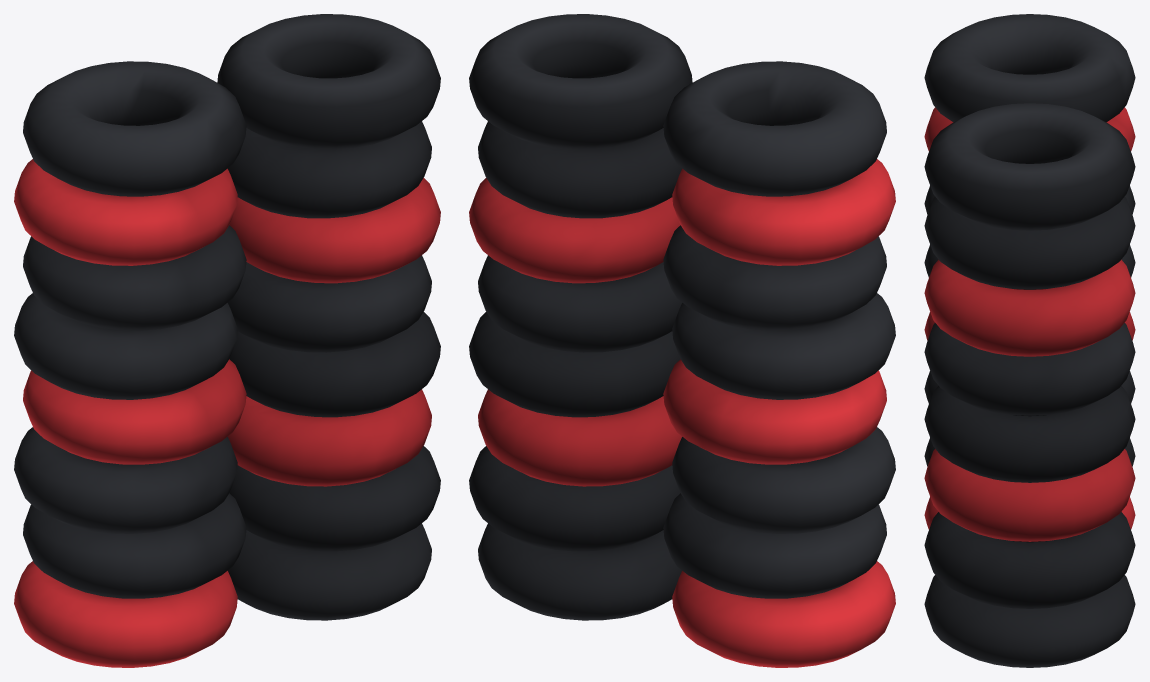
File: bl_tires.glb
3 views of the same model, side by side, from view 1: azimuth 30°, elevation 25°; view 2: azimuth 150°, elevation 25°; view 3: azimuth 270°, elevation 25° (orthographic). The views are drawn at different scales.
Parts seen in each view (by area): view 1: tyres; view 2: tyres; view 3: tyres.
Boxes of the visible parts, x1=… form: tyres: x1=14, y1=14, x2=440, y2=667; tyres: x1=469, y1=14, x2=895, y2=667; tyres: x1=924, y1=14, x2=1135, y2=667.
Bounding box in the file's own units: 1.8 × 2.3 × 0.88.
